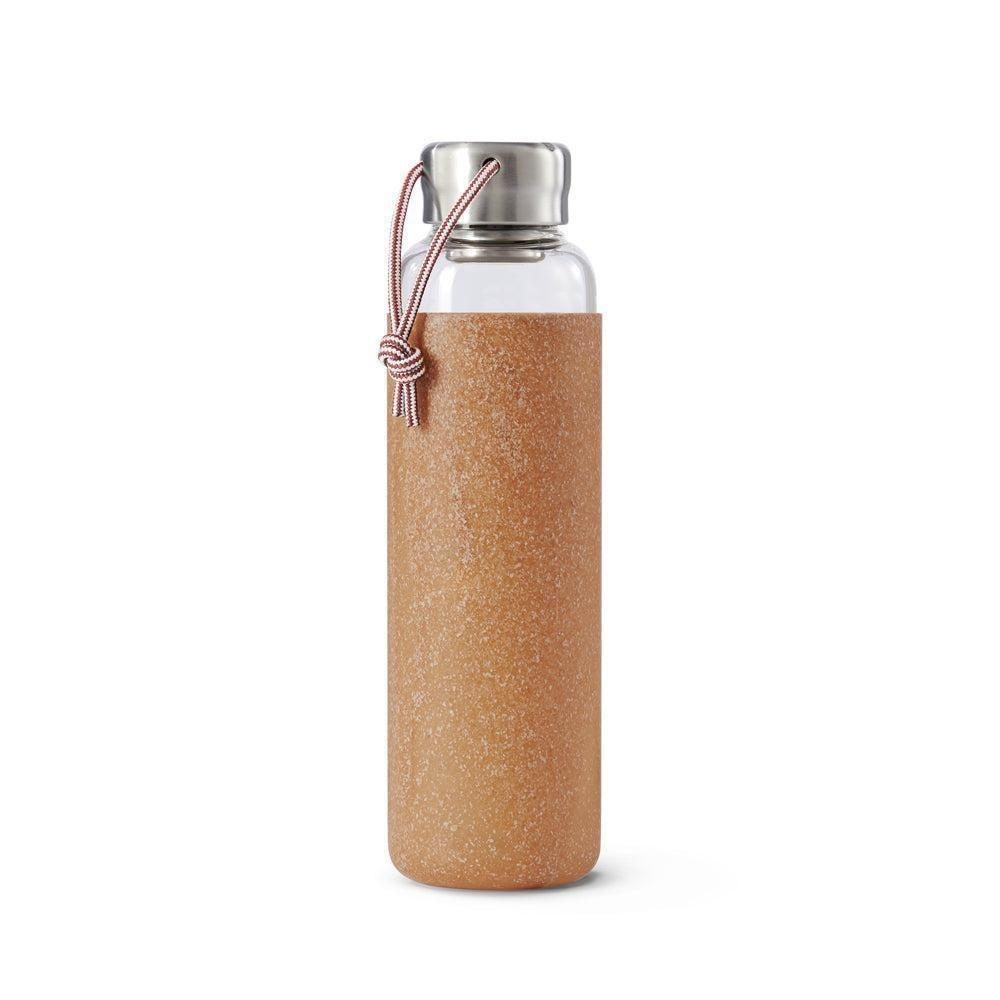gym bottle: (375, 132, 612, 898)
